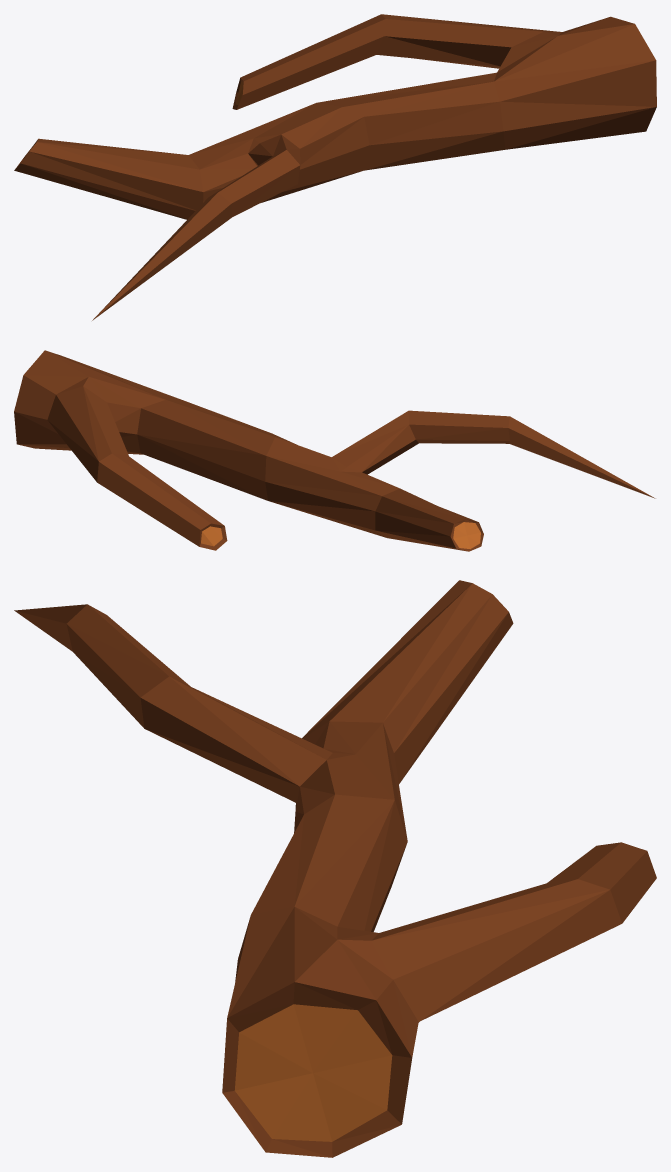
Rendered from Branch00.fbx.
3 views of the same model, one above another, from view 1: azimuth 30°, elevation 25°; view 2: azimuth 150°, elevation 25°; view 3: azimuth 270°, elevation 25° (orthographic). The views are drawn at different scales.
Visible parts, largest first — view 1: Branch00; view 2: Branch00; view 3: Branch00.
Part boxes in pixels (<box>): Branch00: <box>14,14,656,320</box>; Branch00: <box>14,350,655,551</box>; Branch00: <box>14,580,656,1157</box>.
Bounding box in the file's own units: 141 × 22.64 × 75.05.
